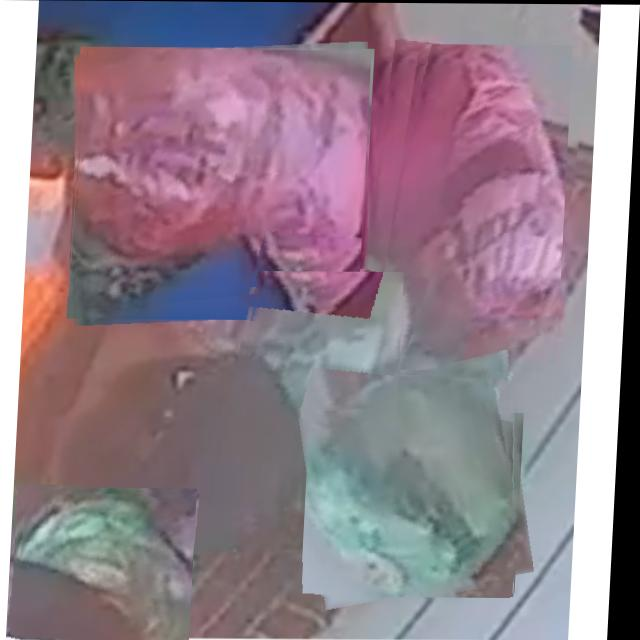general_trashbag: (312, 375, 521, 596), (26, 492, 199, 640), (252, 271, 406, 414)
other_trashbag: (80, 50, 370, 292), (390, 45, 567, 402)
